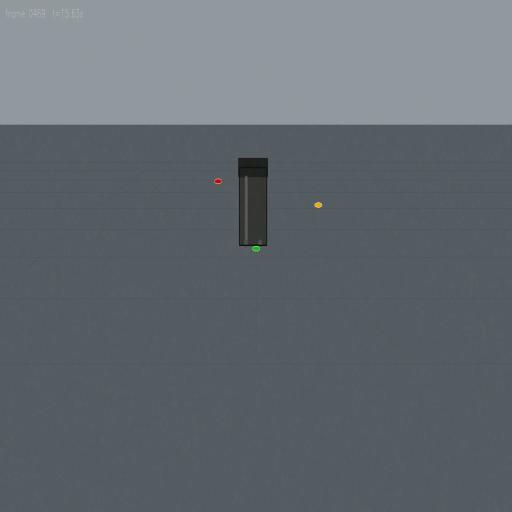bin: (238, 157, 268, 247)
